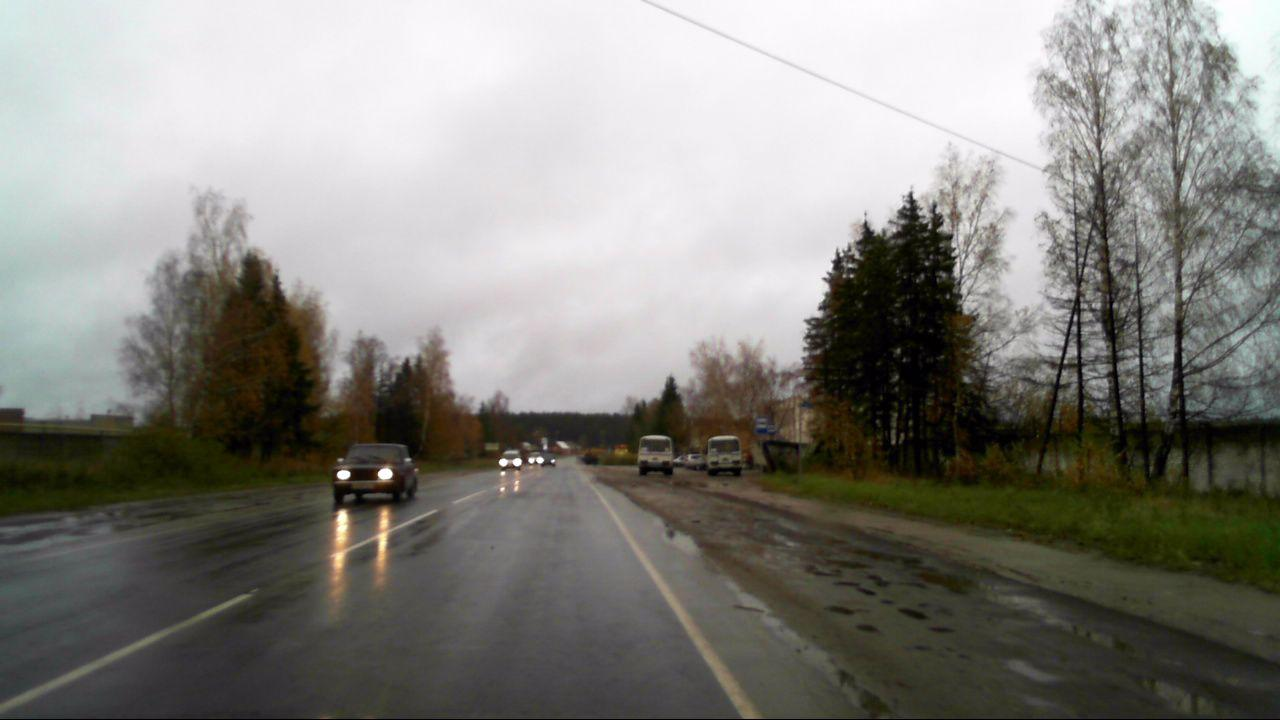5_16: (753, 415, 771, 436)
